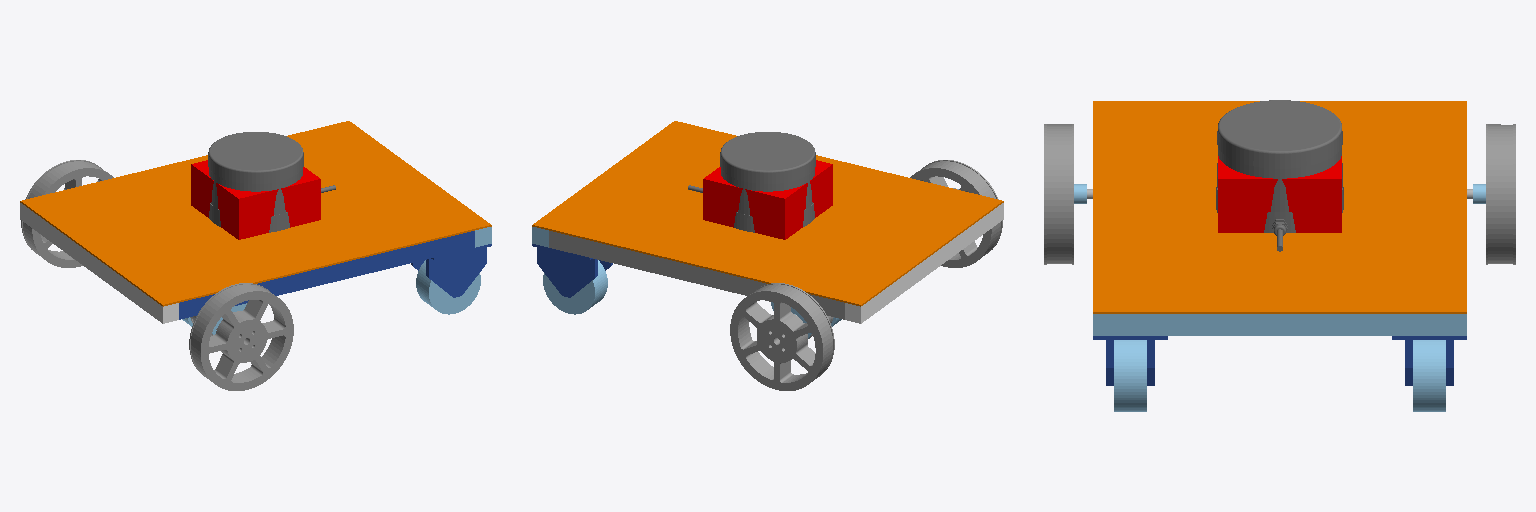
URDF robot description (mini_agv):
<?xml version="1.0"?>
<!-- Generated using onshape-to-robot -->
<!-- Onshape https://cad.onshape.com/documents/4209ac7f0152411e9d4dcbf0/w/3377871fe4109e8e8f25bc5b/e/d6705610344c69e12c64875a -->
<robot name="mini_agv">

  <!-- ==================== BASE_LINK (ROOT) ==================== -->
  <link name="base_link">
    <inertial>
      <mass value="0.001"/>
      <origin xyz="0 0 0" rpy="0 0 0"/>
      <inertia ixx="1e-6" ixy="0" ixz="0" iyy="1e-6" iyz="0" izz="1e-6"/>
    </inertial>
  </link>

  <!-- ==================== BASE_ASSY_LINK (VISUAL + COLLISION) ==================== -->
  <link name="base_assy_link">
    <inertial>
      <origin xyz="0.111897 0.136763 0.0219121" rpy="0 0 0"/>
      <mass value="2.05848"/>
      <inertia ixx="0.0401005" ixy="-0" ixz="-0" iyy="0.0244416" iyz="-6.33966e-05" izz="0.0643575"/>
    </inertial>
    <!-- Part part_5 -->
    <visual>
      <origin xyz="0.111897 0.153132 0.0100307" rpy="-0 -0 0"/>
      <geometry>
        <mesh filename="package://mini_agv_description/assets/part_5.stl"/>
      </geometry>
      <material name="part_5_material">
        <color rgba="0.768627 0.886275 0.952941 1"/>
      </material>
    </visual>
    <collision>
      <origin xyz="0.111897 0.153132 0.0100307" rpy="-0 -0 0"/>
      <geometry>
        <mesh filename="package://mini_agv_description/assets/part_5.stl"/>
      </geometry>
    </collision>
    <!-- Part part_6 -->
    <visual>
      <origin xyz="0.111897 0.153132 0.0100307" rpy="-0 -0 0"/>
      <geometry>
        <mesh filename="package://mini_agv_description/assets/part_6.stl"/>
      </geometry>
      <material name="part_6_material">
        <color rgba="0.972549 0.529412 0.00392157 1"/>
      </material>
    </visual>
    <collision>
      <origin xyz="0.111897 0.153132 0.0100307" rpy="-0 -0 0"/>
      <geometry>
        <mesh filename="package://mini_agv_description/assets/part_6.stl"/>
      </geometry>
    </collision>
    <!-- Part part_3 -->
    <visual>
      <origin xyz="0.111897 0.153132 0.0100307" rpy="-0 -0 0"/>
      <geometry>
        <mesh filename="package://mini_agv_description/assets/part_3.stl"/>
      </geometry>
      <material name="part_3_material">
        <color rgba="0.231373 0.380392 0.705882 1"/>
      </material>
    </visual>
    <collision>
      <origin xyz="0.111897 0.153132 0.0100307" rpy="-0 -0 0"/>
      <geometry>
        <mesh filename="package://mini_agv_description/assets/part_3.stl"/>
      </geometry>
    </collision>
    <!-- Part part_4 -->
    <visual>
      <origin xyz="0.111897 0.153132 0.0100307" rpy="-0 -0 0"/>
      <geometry>
        <mesh filename="package://mini_agv_description/assets/part_4.stl"/>
      </geometry>
      <material name="part_4_material">
        <color rgba="0.917647 0.917647 0.917647 1"/>
      </material>
    </visual>
    <collision>
      <origin xyz="0.111897 0.153132 0.0100307" rpy="-0 -0 0"/>
      <geometry>
        <mesh filename="package://mini_agv_description/assets/part_4.stl"/>
      </geometry>
    </collision>
    <!-- Part part_2 -->
    <visual>
      <origin xyz="0.111897 0.153132 0.0100307" rpy="-0 -0 0"/>
      <geometry>
        <mesh filename="package://mini_agv_description/assets/part_2.stl"/>
      </geometry>
      <material name="part_2_material">
        <color rgba="0.647059 0.647059 0.647059 1"/>
      </material>
    </visual>
    <collision>
      <origin xyz="0.111897 0.153132 0.0100307" rpy="-0 -0 0"/>
      <geometry>
        <mesh filename="package://mini_agv_description/assets/part_2.stl"/>
      </geometry>
    </collision>
    <!-- Part part_1 -->
    <visual>
      <origin xyz="0.111897 0.153132 0.0100307" rpy="-0 -0 0"/>
      <geometry>
        <mesh filename="package://mini_agv_description/assets/part_1.stl"/>
      </geometry>
      <material name="part_1_material">
        <color rgba="0.615686 0.811765 0.929412 1"/>
      </material>
    </visual>
    <collision>
      <origin xyz="0.111897 0.153132 0.0100307" rpy="-0 -0 0"/>
      <geometry>
        <mesh filename="package://mini_agv_description/assets/part_1.stl"/>
      </geometry>
    </collision>
  </link>

  <!-- ==================== FIXED JOINT: base_link → base_assy_link ==================== -->
  <joint name="base_joint" type="fixed">
    <origin xyz="0 0 0" rpy="0 0 -1.5708"/>   <!-- No rotation: base_link and base_assy_link are aligned -->
    <parent link="base_link"/>
    <child link="base_assy_link"/>
  </joint>

  <!-- ==================== PG36 ASSY (LEFT) ==================== -->
  <link name="pg36_assy_link">
    <inertial>
      <origin xyz="-1.21e-10 0.0513289 -0.0214366" rpy="0 0 0"/>
      <mass value="0.313209"/>
      <inertia ixx="0.000352725" ixy="-2e-12" ixz="-0" iyy="6.98889e-05" iyz="8.02005e-06" izz="0.000348643"/>
    </inertial>
    <!-- Part pg36_body -->
    <visual>
      <origin xyz="0 -0.007 -0.023" rpy="1.5708 -1.5708 0"/>
      <geometry>
        <mesh filename="package://mini_agv_description/assets/pg36_body.stl"/>
      </geometry>
      <material name="pg36_body_material">
        <color rgba="0.74902 0.74902 0.74902 1"/>
      </material>
    </visual>
    <collision>
      <origin xyz="0 -0.007 -0.023" rpy="1.5708 -1.5708 0"/>
      <geometry>
        <mesh filename="package://mini_agv_description/assets/pg36_body.stl"/>
      </geometry>
    </collision>
    <!-- Part bracket_body -->
    <visual>
      <origin xyz="-0 -0.0072 -0.023" rpy="-1.5708 0 -0"/>
      <geometry>
        <mesh filename="package://mini_agv_description/assets/bracket_body.stl"/>
      </geometry>
      <material name="bracket_body_material">
        <color rgba="0.615686 0.811765 0.929412 1"/>
      </material>
    </visual>
    <collision>
      <origin xyz="-0 -0.0072 -0.023" rpy="-1.5708 0 -0"/>
      <geometry>
        <mesh filename="package://mini_agv_description/assets/bracket_body.stl"/>
      </geometry>
    </collision>
    <!-- Part bracket_shaft -->
    <visual>
      <origin xyz="0 -0.01 -0.023" rpy="-1.5708 -0 -0"/>
      <geometry>
        <mesh filename="package://mini_agv_description/assets/bracket_shaft.stl"/>
      </geometry>
      <material name="bracket_shaft_material">
        <color rgba="0.615686 0.811765 0.929412 1"/>
      </material>
    </visual>
    <collision>
      <origin xyz="0 -0.01 -0.023" rpy="-1.5708 -0 -0"/>
      <geometry>
        <mesh filename="package://mini_agv_description/assets/bracket_shaft.stl"/>
      </geometry>
    </collision>
    <!-- Part pg36_shaft -->
    <visual>
      <origin xyz="0 -0.007 -0.023" rpy="1.5708 -1.5708 0"/>
      <geometry>
        <mesh filename="package://mini_agv_description/assets/pg36_shaft.stl"/>
      </geometry>
      <material name="pg36_shaft_material">
        <color rgba="0.74902 0.74902 0.74902 1"/>
      </material>
    </visual>
    <collision>
      <origin xyz="0 -0.007 -0.023" rpy="1.5708 -1.5708 0"/>
      <geometry>
        <mesh filename="package://mini_agv_description/assets/pg36_shaft.stl"/>
      </geometry>
    </collision>
  </link>

  <!-- Link wheel_hub_assy -->
  <link name="wheel_hub_assy_link">
    <inertial>
      <origin xyz="0 0 0.00843384" rpy="0 0 0"/>
      <mass value="0.177204"/>
      <inertia ixx="0.000154537" ixy="-0" ixz="-0" iyy="0.000154537" iyz="-0" izz="0.000289564"/>
    </inertial>
    <!-- Part wheel -->
    <visual>
      <origin xyz="0 0 0" rpy="1.5708 -0 -0"/>
      <geometry>
        <mesh filename="package://mini_agv_description/assets/wheel.stl"/>
      </geometry>
      <material name="wheel_material">
        <color rgba="0.647059 0.647059 0.647059 1"/>
      </material>
    </visual>
    <collision>
      <origin xyz="0 0 0" rpy="1.5708 -0 -0"/>
      <geometry>
        <mesh filename="package://mini_agv_description/assets/wheel.stl"/>
      </geometry>
    </collision>
    <!-- Part 8mm_flange_hub -->
    <visual>
      <origin xyz="0 0 0" rpy="1.5708 -0 -0"/>
      <geometry>
        <mesh filename="package://mini_agv_description/assets/8mm_flange_hub.stl"/>
      </geometry>
      <material name="8mm_flange_hub_material">
        <color rgba="0.615686 0.811765 0.929412 1"/>
      </material>
    </visual>
    <collision>
      <origin xyz="0 0 0" rpy="1.5708 -0 -0"/>
      <geometry>
        <mesh filename="package://mini_agv_description/assets/8mm_flange_hub.stl"/>
      </geometry>
    </collision>
  </link>

  <!-- Joint from pg36_assy to wheel_hub_assy -->
  <joint name="wheel_1_joint" type="continuous">
    <origin xyz="0 -0.0283 -0.023" rpy="1.5708 1.5708 0"/>
    <parent link="pg36_assy_link"/>
    <child link="wheel_hub_assy_link"/>
    <axis xyz="0 0 1"/>
    <limit effort="10" velocity="10"/>
  </joint>

  <!-- Joint from base_assy to pg36_assy -->
  <joint name="motor_1_joint" type="fixed">
    <origin xyz="0.251897 0.0331323 0.0100307" rpy="-0 0 1.5708"/>
    <parent link="base_assy_link"/>
    <child link="pg36_assy_link"/>
    <axis xyz="0 0 1"/>
    <limit effort="10" velocity="10"/>
  </joint>

  <!-- ==================== PG36 ASSY (RIGHT) ==================== -->
  <link name="pg36_assy_2_link">
    <inertial>
      <origin xyz="-1.21e-10 0.0513289 -0.0214366" rpy="0 0 0"/>
      <mass value="0.313209"/>
      <inertia ixx="0.000352725" ixy="-2e-12" ixz="-0" iyy="6.98889e-05" iyz="8.02005e-06" izz="0.000348643"/>
    </inertial>
    <!-- Part pg36_body_2 -->
    <visual>
      <origin xyz="0 -0.007 -0.023" rpy="1.5708 -1.5708 0"/>
      <geometry>
        <mesh filename="package://mini_agv_description/assets/pg36_body.stl"/>
      </geometry>
      <material name="pg36_body_2_material">
        <color rgba="0.74902 0.74902 0.74902 1"/>
      </material>
    </visual>
    <collision>
      <origin xyz="0 -0.007 -0.023" rpy="1.5708 -1.5708 0"/>
      <geometry>
        <mesh filename="package://mini_agv_description/assets/pg36_body.stl"/>
      </geometry>
    </collision>
    <!-- Part bracket_body_2 -->
    <visual>
      <origin xyz="0 -0.0072 -0.023" rpy="-1.5708 0 0"/>
      <geometry>
        <mesh filename="package://mini_agv_description/assets/bracket_body.stl"/>
      </geometry>
      <material name="bracket_body_2_material">
        <color rgba="0.615686 0.811765 0.929412 1"/>
      </material>
    </visual>
    <collision>
      <origin xyz="0 -0.0072 -0.023" rpy="-1.5708 0 0"/>
      <geometry>
        <mesh filename="package://mini_agv_description/assets/bracket_body.stl"/>
      </geometry>
    </collision>
    <!-- Part bracket_shaft_2 -->
    <visual>
      <origin xyz="0 -0.01 -0.023" rpy="-1.5708 -0 -0"/>
      <geometry>
        <mesh filename="package://mini_agv_description/assets/bracket_shaft.stl"/>
      </geometry>
      <material name="bracket_shaft_2_material">
        <color rgba="0.615686 0.811765 0.929412 1"/>
      </material>
    </visual>
    <collision>
      <origin xyz="0 -0.01 -0.023" rpy="-1.5708 -0 -0"/>
      <geometry>
        <mesh filename="package://mini_agv_description/assets/bracket_shaft.stl"/>
      </geometry>
    </collision>
    <!-- Part pg36_shaft_2 -->
    <visual>
      <origin xyz="0 -0.007 -0.023" rpy="1.5708 -1.5708 0"/>
      <geometry>
        <mesh filename="package://mini_agv_description/assets/pg36_shaft.stl"/>
      </geometry>
      <material name="pg36_shaft_2_material">
        <color rgba="0.74902 0.74902 0.74902 1"/>
      </material>
    </visual>
    <collision>
      <origin xyz="0 -0.007 -0.023" rpy="1.5708 -1.5708 0"/>
      <geometry>
        <mesh filename="package://mini_agv_description/assets/pg36_shaft.stl"/>
      </geometry>
    </collision>
  </link>

  <!-- Link wheel_hub_assy_2 -->
  <link name="wheel_hub_assy_2_link">
    <inertial>
      <origin xyz="0 0 0.00843384" rpy="0 0 0"/>
      <mass value="0.177204"/>
      <inertia ixx="0.000154537" ixy="0" ixz="0" iyy="0.000154537" iyz="-0" izz="0.000289564"/>
    </inertial>
    <!-- Part wheel_2 -->
    <visual>
      <origin xyz="0 0 0" rpy="1.5708 0 0"/>
      <geometry>
        <mesh filename="package://mini_agv_description/assets/wheel.stl"/>
      </geometry>
      <material name="wheel_2_material">
        <color rgba="0.647059 0.647059 0.647059 1"/>
      </material>
    </visual>
    <collision>
      <origin xyz="0 0 0" rpy="1.5708 0 0"/>
      <geometry>
        <mesh filename="package://mini_agv_description/assets/wheel.stl"/>
      </geometry>
    </collision>
    <!-- Part 8mm_flange_hub_2 -->
    <visual>
      <origin xyz="0 -0 0" rpy="1.5708 0 0"/>
      <geometry>
        <mesh filename="package://mini_agv_description/assets/8mm_flange_hub.stl"/>
      </geometry>
      <material name="8mm_flange_hub_2_material">
        <color rgba="0.615686 0.811765 0.929412 1"/>
      </material>
    </visual>
    <collision>
      <origin xyz="0 -0 0" rpy="1.5708 0 0"/>
      <geometry>
        <mesh filename="package://mini_agv_description/assets/8mm_flange_hub.stl"/>
      </geometry>
    </collision>
  </link>

  <!-- Joint from pg36_assy_2 to wheel_hub_assy_2 -->
  <joint name="wheel_2_joint" type="continuous">
    <origin xyz="0 -0.0283 -0.023" rpy="-1.5708 -0 -3.14159"/>
    <parent link="pg36_assy_2_link"/>
    <child link="wheel_hub_assy_2_link"/>
    <axis xyz="0 0 -1"/>
    <limit effort="10" velocity="10"/>
  </joint>

  <!-- Joint from base_assy to pg36_assy_2 -->
  <joint name="motor_2_joint" type="fixed">
    <origin xyz="-0.0281034 0.0331323 0.0100307" rpy="0 -0 -1.5708"/>
    <parent link="base_assy_link"/>
    <child link="pg36_assy_2_link"/>
    <axis xyz="0 0 1"/>
    <limit effort="10" velocity="10"/>
  </joint>

  <!-- ==================== CASTER FRAME 1 ==================== -->
  <link name="caster_frame_link">
    <inertial>
      <origin xyz="0 -0 -0.0201897" rpy="0 0 0"/>
      <mass value="0.0626507"/>
      <inertia ixx="3.42636e-05" ixy="0" ixz="0" iyy="3.81143e-05" iyz="0" izz="3.79824e-05"/>
    </inertial>
    <!-- Part caster_frame -->
    <visual>
      <origin xyz="0 0.0135 -0.04825" rpy="0 -0 0"/>
      <geometry>
        <mesh filename="package://mini_agv_description/assets/caster_frame.stl"/>
      </geometry>
      <material name="caster_frame_material">
        <color rgba="0.231373 0.380392 0.705882 1"/>
      </material>
    </visual>
    <collision>
      <origin xyz="0 0.0135 -0.04825" rpy="0 -0 0"/>
      <geometry>
        <mesh filename="package://mini_agv_description/assets/caster_frame.stl"/>
      </geometry>
    </collision>
  </link>

  <!-- Link caster_wheel -->
  <link name="caster_wheel_link">
    <inertial>
      <origin xyz="-0 -0 -0.0135" rpy="0 0 0"/>
      <mass value="0.122328"/>
      <inertia ixx="3.90245e-05" ixy="0" ixz="0" iyy="3.90245e-05" iyz="0" izz="6.31861e-05"/>
    </inertial>
    <!-- Part caster_wheel -->
    <visual>
      <origin xyz="-0 0 0" rpy="1.5708 -0 0"/>
      <geometry>
        <mesh filename="package://mini_agv_description/assets/caster_wheel.stl"/>
      </geometry>
      <material name="caster_wheel_material">
        <color rgba="0.615686 0.811765 0.929412 1"/>
      </material>
    </visual>
    <collision>
      <origin xyz="-0 0 0" rpy="1.5708 -0 0"/>
      <geometry>
        <mesh filename="package://mini_agv_description/assets/caster_wheel.stl"/>
      </geometry>
    </collision>
  </link>

  <!-- Joint from caster_frame to caster_wheel -->
  <joint name="caster_wheel_1_joint" type="continuous">
    <origin xyz="0 0.0135 -0.04825" rpy="-1.5708 -1.5708 0"/>
    <parent link="caster_frame_link"/>
    <child link="caster_wheel_link"/>
    <axis xyz="0 0 1"/>
    <limit effort="10" velocity="10"/>
  </joint>

  <!-- Joint from base_assy to caster_frame -->
  <joint name="caster_1_joint" type="fixed">
    <origin xyz="0.231897 0.318132 0.0100307" rpy="-0 0 1.5708"/>
    <parent link="base_assy_link"/>
    <child link="caster_frame_link"/>
    <axis xyz="0 0 1"/>
    <limit effort="10" velocity="10"/>
  </joint>

  <!-- ==================== CASTER FRAME 2 ==================== -->
  <link name="caster_frame_2_link">
    <inertial>
      <origin xyz="0 -0 -0.0201897" rpy="0 0 0"/>
      <mass value="0.0626507"/>
      <inertia ixx="3.42636e-05" ixy="0" ixz="0" iyy="3.81143e-05" iyz="0" izz="3.79824e-05"/>
    </inertial>
    <!-- Part caster_frame_2 -->
    <visual>
      <origin xyz="0 0.0135 -0.04825" rpy="0 -0 -0"/>
      <geometry>
        <mesh filename="package://mini_agv_description/assets/caster_frame.stl"/>
      </geometry>
      <material name="caster_frame_2_material">
        <color rgba="0.231373 0.380392 0.705882 1"/>
      </material>
    </visual>
    <collision>
      <origin xyz="0 0.0135 -0.04825" rpy="0 -0 -0"/>
      <geometry>
        <mesh filename="package://mini_agv_description/assets/caster_frame.stl"/>
      </geometry>
    </collision>
  </link>

  <!-- Link caster_wheel_2 -->
  <link name="caster_wheel_2_link">
    <inertial>
      <origin xyz="0 -0 -0.0135" rpy="0 0 0"/>
      <mass value="0.122328"/>
      <inertia ixx="3.90245e-05" ixy="-0" ixz="0" iyy="3.90245e-05" iyz="0" izz="6.31861e-05"/>
    </inertial>
    <!-- Part caster_wheel_2 -->
    <visual>
      <origin xyz="0 0 0" rpy="1.5708 -0 0"/>
      <geometry>
        <mesh filename="package://mini_agv_description/assets/caster_wheel.stl"/>
      </geometry>
      <material name="caster_wheel_2_material">
        <color rgba="0.615686 0.811765 0.929412 1"/>
      </material>
    </visual>
    <collision>
      <origin xyz="0 0 0" rpy="1.5708 -0 0"/>
      <geometry>
        <mesh filename="package://mini_agv_description/assets/caster_wheel.stl"/>
      </geometry>
    </collision>
  </link>

  <!-- Joint from caster_frame_2 to caster_wheel_2 -->
  <joint name="caster_wheel_2_joint" type="continuous">
    <origin xyz="0 -0.0135 -0.04825" rpy="1.5708 1.5708 0"/>
    <parent link="caster_frame_2_link"/>
    <child link="caster_wheel_2_link"/>
    <axis xyz="0 0 1"/>
    <limit effort="10" velocity="10"/>
  </joint>

  <!-- Joint from base_assy to caster_frame_2 -->
  <joint name="caster_2_joint" type="fixed">
    <origin xyz="-0.00810344 0.318132 0.0100307" rpy="-0 0 1.5708"/>
    <parent link="base_assy_link"/>
    <child link="caster_frame_2_link"/>
    <axis xyz="0 0 1"/>
    <limit effort="10" velocity="10"/>
  </joint>

  <!-- ==================== LIDAR ==================== -->
  <link name="velodyne_lidar_link">
    <inertial>
      <origin xyz="0.000186953 -2.55566e-06 -0.0355054" rpy="0 0 0"/>
      <mass value="0.719126"/>
      <inertia ixx="0.000767719" ixy="-3.44e-10" ixz="-3.81693e-06" iyy="0.000777879" iyz="6.0148e-08" izz="0.000926152"/>
    </inertial>
    <!-- Part velodyne_lidar -->
    <visual>
      <origin xyz="0 0 0" rpy="-1.5708 0 -0"/>
      <geometry>
        <mesh filename="package://mini_agv_description/assets/velodyne_lidar.stl"/>
      </geometry>
      <material name="velodyne_lidar_material">
        <color rgba="0.490196 0.490196 0.490196 1"/>
      </material>
    </visual>
    <collision>
      <origin xyz="0 0 0" rpy="-1.5708 0 -0"/>
      <geometry>
        <mesh filename="package://mini_agv_description/assets/velodyne_lidar.stl"/>
      </geometry>
    </collision>
  </link>

  <!-- Joint from base_assy to velodyne_lidar -->
  <joint name="lidar_joint" type="fixed">
    <origin xyz="0.111897 0.153132 0.0320307" rpy="3.14159 0 1.5708"/>
    <parent link="base_assy_link"/>
    <child link="velodyne_lidar_link"/>
    <axis xyz="0 0 1"/>
    <limit effort="10" velocity="10"/>
  </joint>

  <!-- ==================== IMU ==================== -->
  <link name="imu_link">
    <inertial>
      <origin xyz="0 0 0" rpy="0 0 0"/>
      <mass value="0.1"/>
      <inertia ixx="0.0001666667" ixy="0" ixz="0" iyy="0.0001666667" iyz="0" izz="0.0001666667"/>
    </inertial>
    <visual>
      <origin xyz="0 0 0" rpy="0 0 0"/>
      <geometry>
        <box size="0.1 0.1 0.1"/>
      </geometry>
      <material name="imu_material">
        <color rgba="1 0 0 1"/>
      </material>
    </visual>
    <collision>
      <origin xyz="0 0 0" rpy="0 0 0"/>
      <geometry>
        <box size="0.1 0.1 0.1"/>
      </geometry>
    </collision>
  </link>

  <!-- Joint from base_assy_link to imu_link -->
  <joint name="imu_joint" type="fixed">
    <origin xyz="0.111897 0.153132 0.03" rpy="0 0 0"/>
    <parent link="base_assy_link"/>
    <child link="imu_link"/>
  </joint>

</robot>

--- Render facts (derived) ---
3 views of the same robot in one strip: view 1: azimuth 30°, elevation 25°; view 2: azimuth 150°, elevation 25°; view 3: azimuth 270°, elevation 25° (orthographic).
Model mini_agv with 12 links and 11 joints (4 continuous, 7 fixed), rooted at base_link, posed all joints at 0.
Links seen in each view (by area): view 1: base_assy_link, wheel_hub_assy_link, velodyne_lidar_link, imu_link, wheel_hub_assy_2_link, caster_frame_link, caster_wheel_link; view 2: base_assy_link, wheel_hub_assy_2_link, velodyne_lidar_link, imu_link, wheel_hub_assy_link, caster_frame_2_link, caster_wheel_2_link; view 3: base_assy_link, velodyne_lidar_link, imu_link, wheel_hub_assy_link, wheel_hub_assy_2_link, caster_wheel_link, caster_wheel_2_link, caster_frame_link, caster_frame_2_link.
Link boxes in pixels (bbox=[...]): base_assy_link: bbox=[20, 121, 491, 323]; wheel_hub_assy_link: bbox=[189, 283, 293, 390]; velodyne_lidar_link: bbox=[208, 132, 335, 232]; imu_link: bbox=[191, 160, 320, 239]; wheel_hub_assy_2_link: bbox=[21, 160, 113, 267]; caster_frame_link: bbox=[411, 244, 491, 297]; caster_wheel_link: bbox=[416, 260, 480, 314]; base_assy_link: bbox=[532, 121, 1003, 323]; wheel_hub_assy_2_link: bbox=[730, 283, 834, 390]; velodyne_lidar_link: bbox=[688, 132, 815, 232]; imu_link: bbox=[703, 160, 832, 239]; wheel_hub_assy_link: bbox=[910, 160, 1002, 267]; caster_frame_2_link: bbox=[532, 244, 612, 297]; caster_wheel_2_link: bbox=[543, 260, 607, 314]; base_assy_link: bbox=[1093, 101, 1466, 335]; velodyne_lidar_link: bbox=[1216, 100, 1343, 251]; imu_link: bbox=[1218, 156, 1341, 232]; wheel_hub_assy_link: bbox=[1044, 124, 1086, 264]; wheel_hub_assy_2_link: bbox=[1473, 124, 1515, 264]; caster_wheel_link: bbox=[1114, 340, 1146, 411]; caster_wheel_2_link: bbox=[1413, 340, 1445, 411]; caster_frame_link: bbox=[1093, 336, 1167, 385]; caster_frame_2_link: bbox=[1392, 336, 1466, 385].
Size in the robot's own frame: 0.4 by 0.3786 by 0.1737 metres.
23 mesh visuals loaded from 15 distinct referenced files (15 binary STL).
